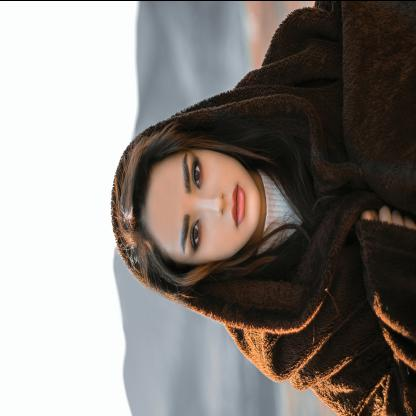Eye: (190, 216, 202, 251), (192, 155, 203, 190)
Mouth: (231, 182, 246, 227)
Nose: (199, 189, 225, 217)
